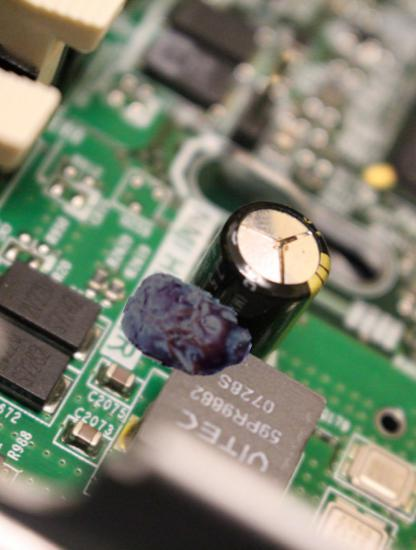Dates: (121, 264, 253, 396)
